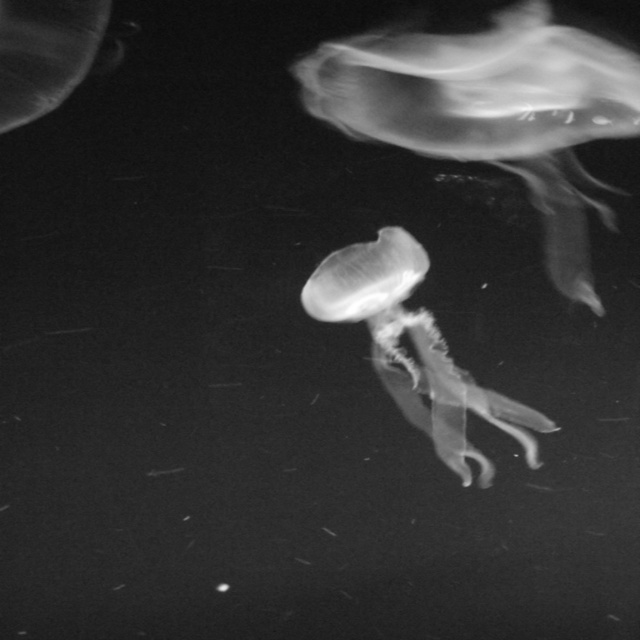Jellyfish: (299, 0, 639, 324), (300, 220, 565, 491)
